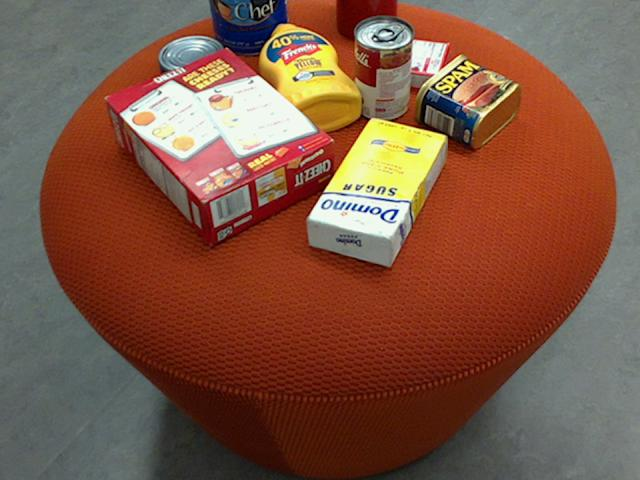cracker_box: (102, 46, 333, 242)
gelatin_box: (370, 36, 449, 91)
large_marker: (358, 0, 372, 33)
master_chef_can: (208, 0, 289, 53)
mug: (334, 0, 396, 39)
mustard_bottle: (258, 23, 360, 133)
potted_meat_can: (412, 54, 519, 148)
sugar_box: (307, 116, 446, 267)
tomato_soup_can: (353, 14, 413, 120)
tuna_fish_can: (155, 35, 227, 93)
